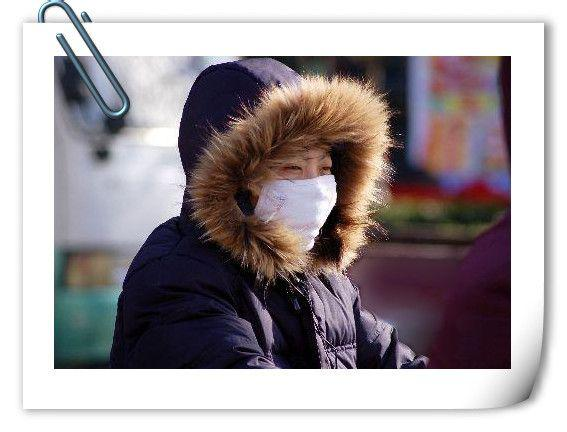OK: (235, 147, 341, 250)
